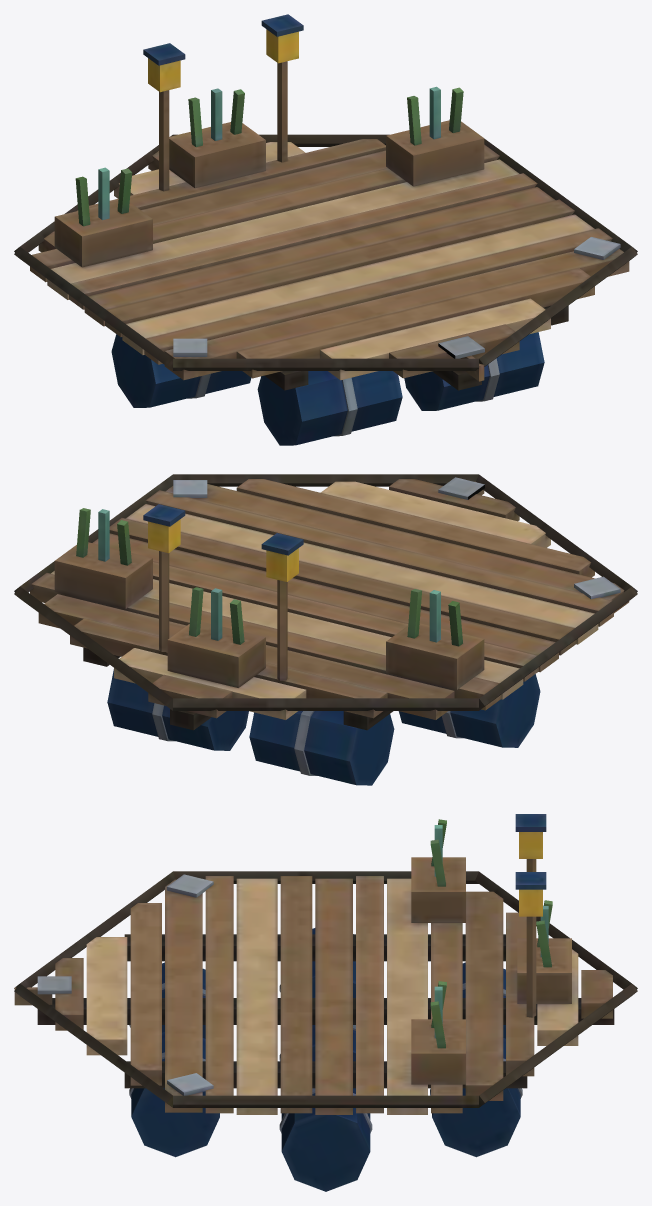
The model's file is raft-c-age10.glb.
3 views of the same model, one above another, from view 1: azimuth 30°, elevation 25°; view 2: azimuth 150°, elevation 25°; view 3: azimuth 270°, elevation 25° (orthographic).
Visible parts, largest first — view 1: raft-c-age10; view 2: raft-c-age10; view 3: raft-c-age10.
Part boxes in pixels (x1,y1,x2,y2): raft-c-age10: [14, 14, 637, 445]; raft-c-age10: [14, 474, 637, 785]; raft-c-age10: [14, 814, 637, 1191].
Bounding box in the file's own units: 1.59 × 0.809 × 1.83.
Materials: 1 (1 with a texture image).
